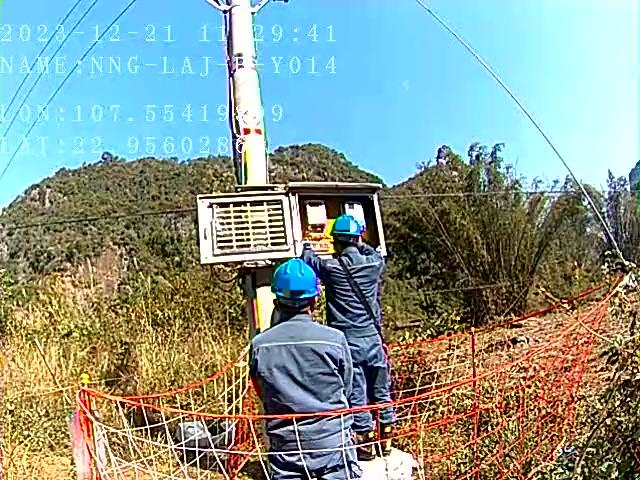halt: (274, 261, 324, 316), (332, 216, 367, 253)
